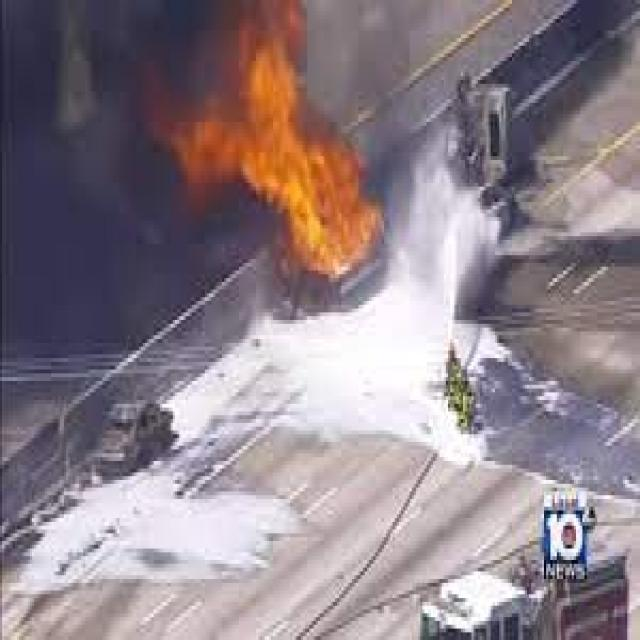fire: (154, 49, 384, 274)
smoke: (403, 126, 504, 350)
